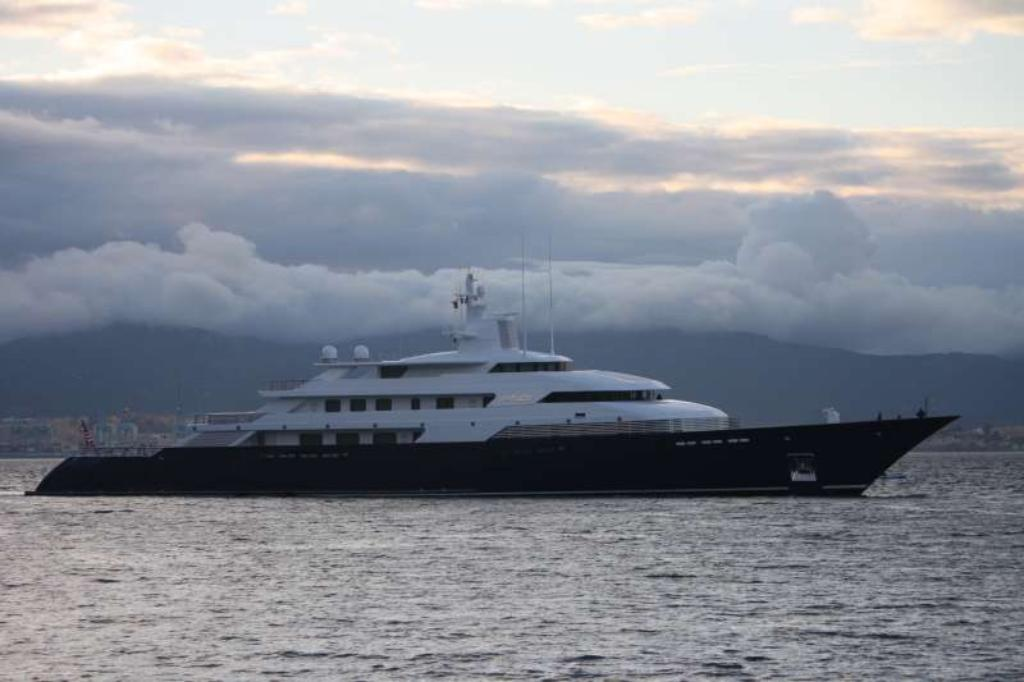PassengerShip: (22, 268, 990, 491)
